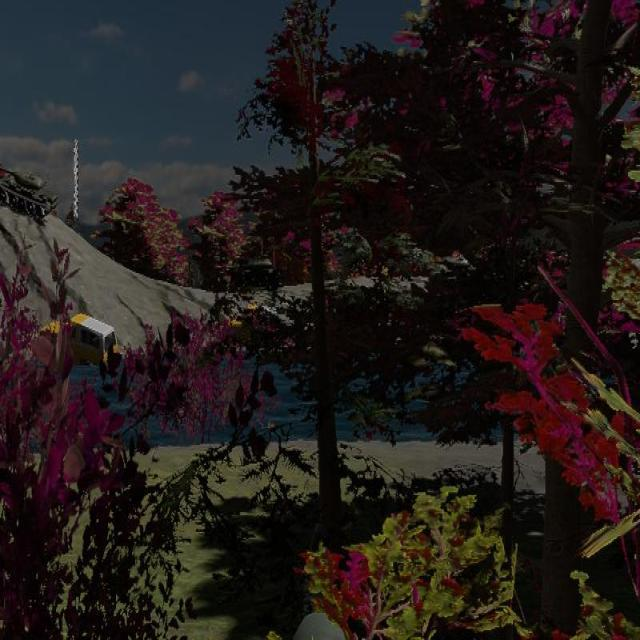Tank: (0, 155, 59, 221)
car: (39, 314, 118, 377)
